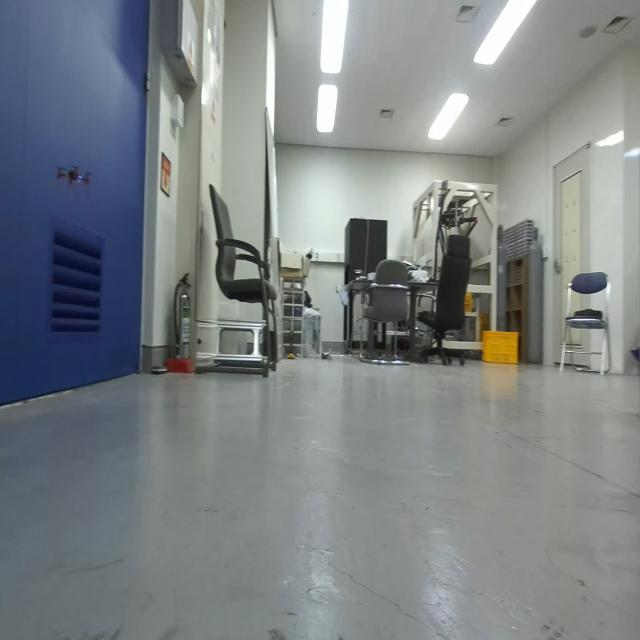crazyflie: (53, 160, 92, 198)
